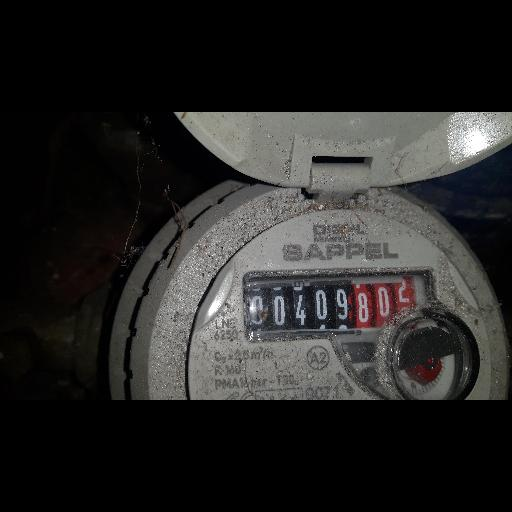0: (374, 283, 395, 328), (248, 288, 268, 332), (312, 284, 331, 330), (271, 287, 290, 332)
2: (393, 276, 415, 322)
4: (292, 286, 310, 331)
8: (354, 284, 373, 329)
9: (333, 283, 351, 329)
border_water_meter_number: (247, 273, 433, 340)
